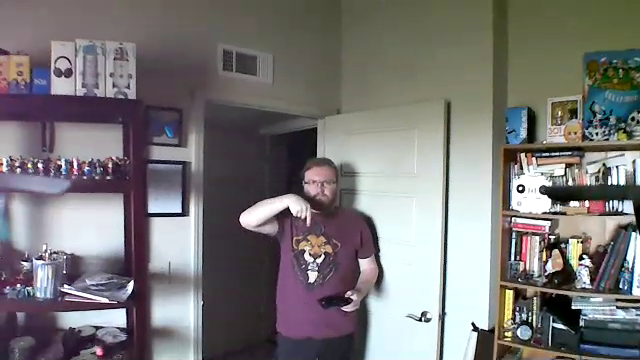down: (283, 189, 318, 232)
